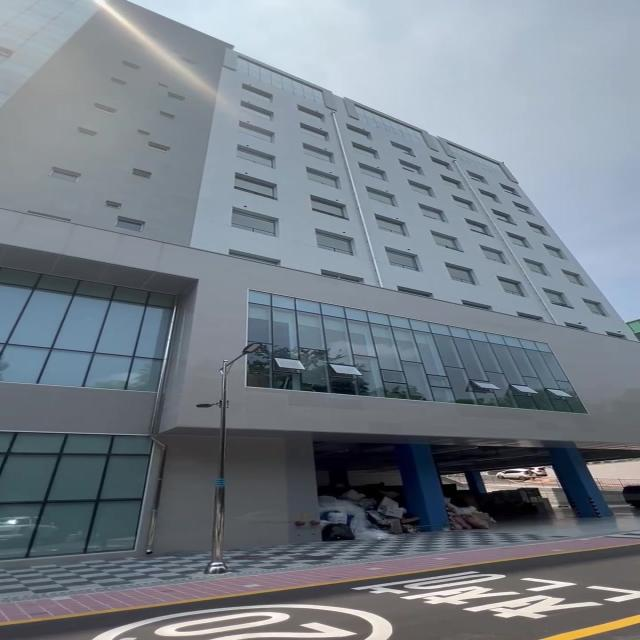building: (39, 32, 640, 443)
